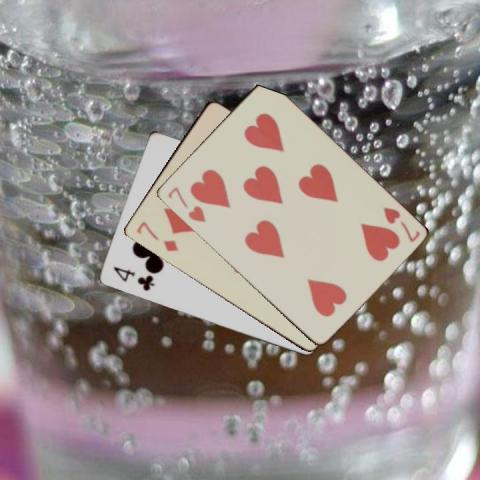4c: (110, 263, 155, 293)
7d: (133, 218, 179, 253)
7h: (164, 184, 207, 224), (380, 204, 421, 244)
